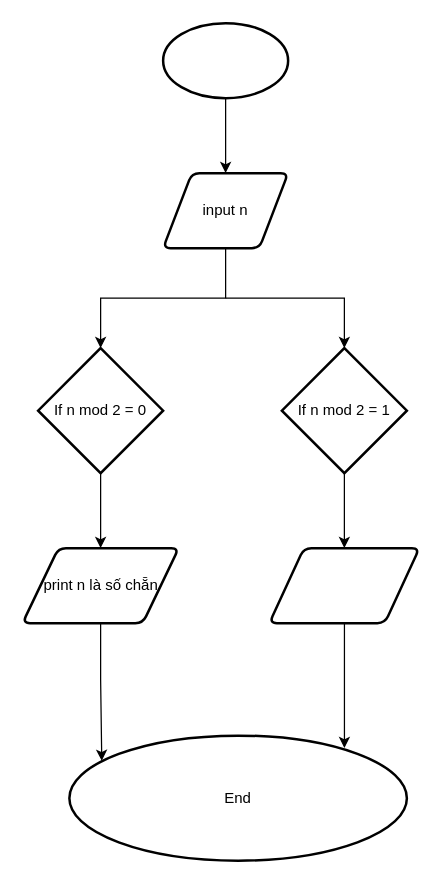
Some shapes in this 443 by 883 pixel diagram are drawn without their labels. Here are the shapes that lost their labels. From the top down, the centre of each, then its label:
At (x=225, y=60): "Start".
At (x=344, y=585): "print n là số lẻ".
